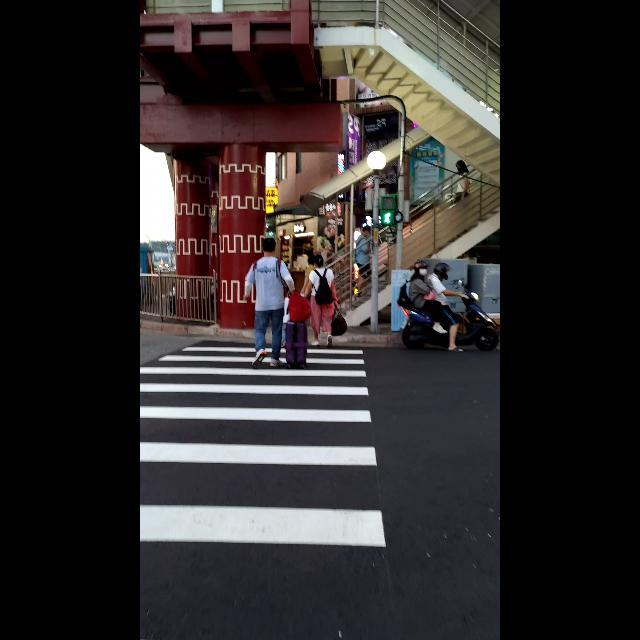sidewalk: (141, 337, 388, 549)
